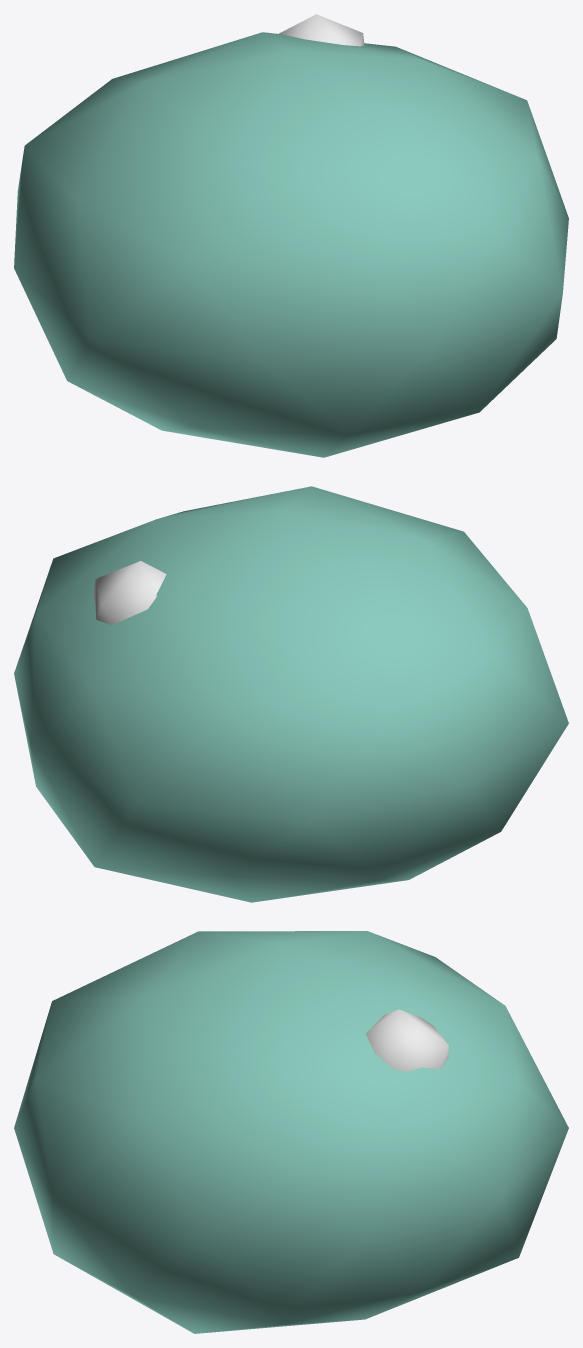
File: purification_powder.glb
3 views of the same model, one above another, from view 1: azimuth 30°, elevation 25°; view 2: azimuth 150°, elevation 25°; view 3: azimuth 270°, elevation 25° (orthographic). The views are drawn at different scales.
Parts seen in each view (by area): view 1: purification_powder_v0; view 2: purification_powder_v0; view 3: purification_powder_v0.
Part boxes in pixels (box(x1,y1,x2,y2)): purification_powder_v0: box(14, 14, 568, 457); purification_powder_v0: box(14, 486, 568, 902); purification_powder_v0: box(14, 931, 568, 1333).
Size of the model in its own units: 0.2307 by 0.1734 by 0.2388.
